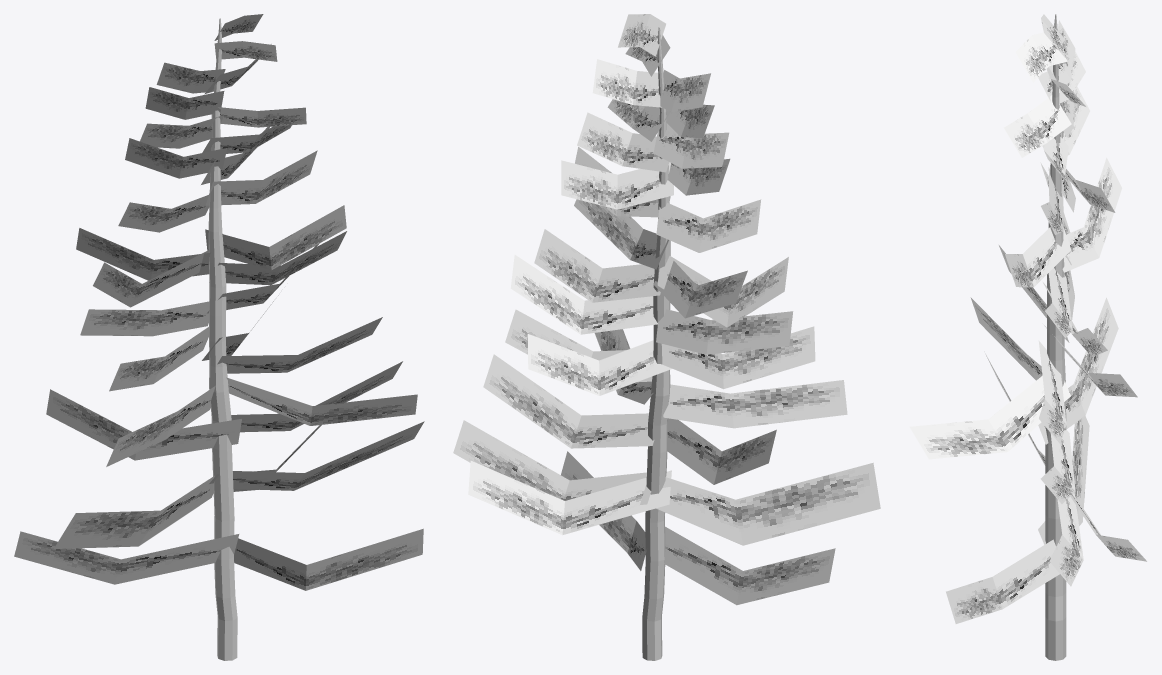
File: Pino3.fbx
3 renders of one model, left to right at view 1: azimuth 30°, elevation 25°; view 2: azimuth 150°, elevation 25°; view 3: azimuth 270°, elevation 25°, orthographic.
Visible parts, largest first — view 1: LeafL, Tallo; view 2: LeafL, Tallo; view 3: LeafL, Tallo.
Boxes of the visible parts, left/top/right/bottom form: LeafL: left=14, top=14, right=424, bottom=590; Tallo: left=208, top=18, right=237, bottom=660; LeafL: left=453, top=14, right=880, bottom=605; Tallo: left=642, top=27, right=670, bottom=660; LeafL: left=909, top=14, right=1146, bottom=623; Tallo: left=1045, top=14, right=1066, bottom=660.
Size of the model in its own units: 3.86 by 5.99 by 2.01.
1 material, 1 textured.
